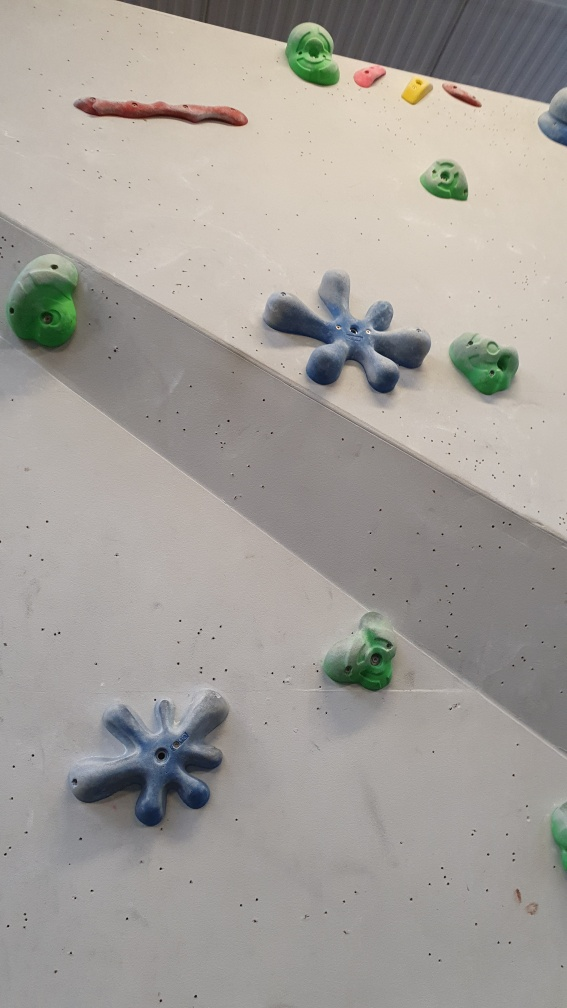Crimp: (441, 81, 483, 110), (352, 62, 391, 88)
Jug: (10, 245, 90, 353), (320, 608, 401, 698), (448, 329, 528, 399), (283, 20, 343, 90), (420, 155, 473, 204)
Octopus Pinch: (59, 677, 231, 828), (261, 264, 431, 394)
